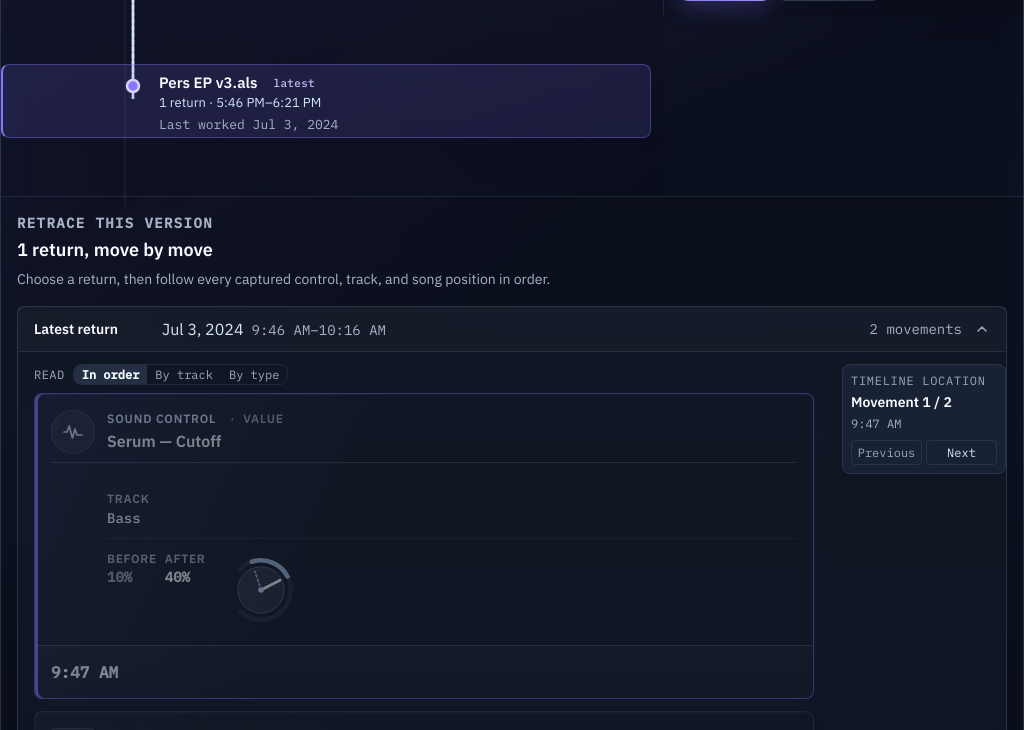
VersionTimelineScreen › sorts a sitting into movement-type sections
The width and height of the screenshot is (1024, 730).
(page scrolled)
What coordinates should you click on to do the following:
click the button "By type"
I would click on:
 (254, 375)
Its box is 221,365 -> 287,384.
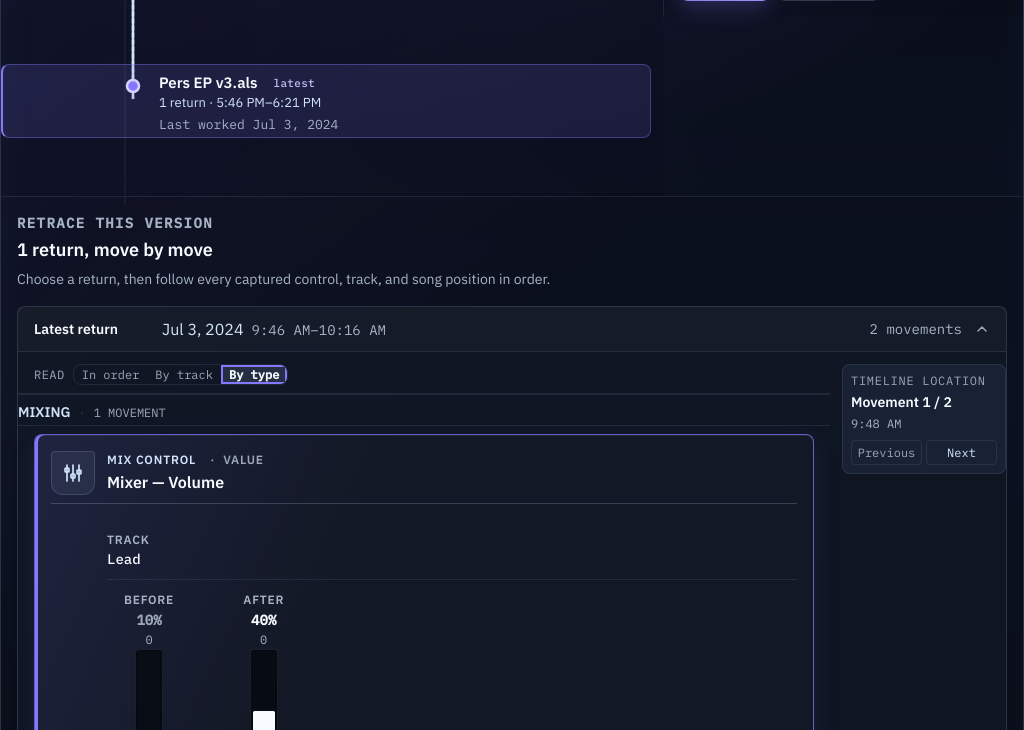
Expected: the text "Before" is shown, 124,592 -> 174,607
Result: the text "Mixing" is shown at 18,403 -> 70,421
